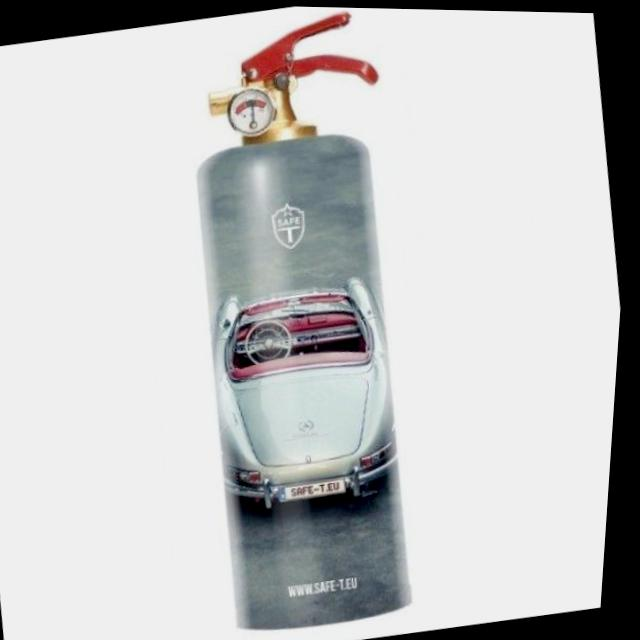FireExtinguisher: (142, 3, 472, 640)
